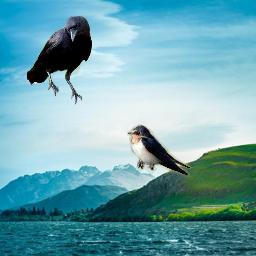Crow: (27, 16, 92, 105)
Swallow: (127, 124, 191, 178)
